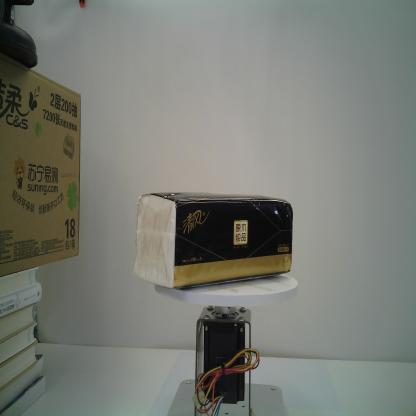Tissue: (131, 188, 294, 292)
